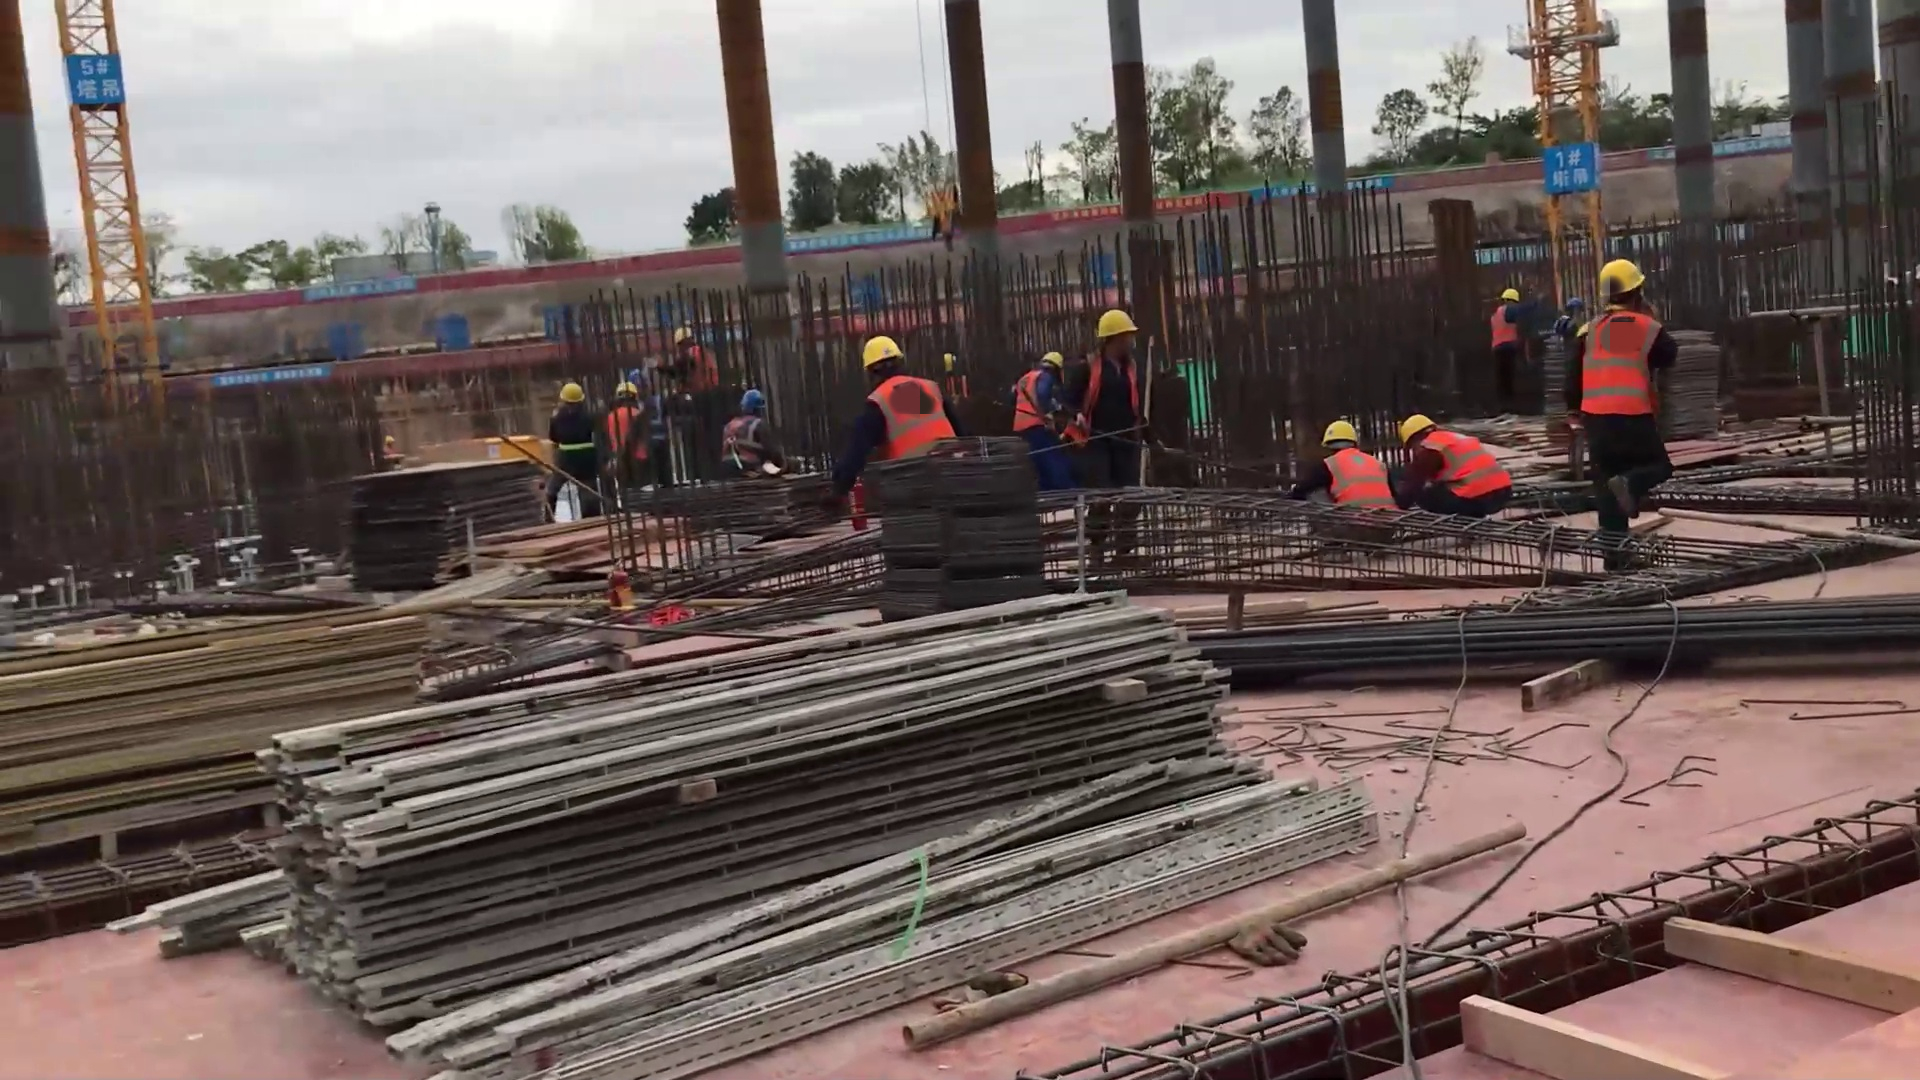helmet: (1398, 414, 1439, 452), (1595, 264, 1646, 293), (865, 335, 908, 365), (1098, 309, 1139, 339), (1326, 420, 1368, 448), (1042, 351, 1072, 382), (562, 382, 585, 407), (1567, 296, 1589, 317), (939, 352, 958, 376), (673, 325, 693, 344), (616, 382, 638, 400), (1505, 288, 1522, 308), (741, 394, 768, 408), (634, 368, 649, 388), (385, 435, 397, 444)
person: (1575, 257, 1655, 566), (1081, 308, 1146, 562), (847, 330, 946, 488), (1394, 401, 1506, 515), (1298, 424, 1385, 559), (543, 375, 603, 519), (1023, 340, 1073, 505), (723, 381, 786, 502), (1493, 274, 1536, 414), (617, 378, 651, 501), (642, 363, 680, 471), (675, 314, 721, 399), (1553, 295, 1586, 397), (928, 343, 973, 404), (382, 427, 400, 459)
vest: (1582, 316, 1658, 418), (1426, 421, 1503, 499), (1084, 351, 1144, 442), (1328, 449, 1405, 515), (876, 385, 950, 453), (1008, 372, 1055, 441), (715, 418, 770, 471), (554, 413, 598, 470), (608, 408, 646, 453), (1477, 308, 1519, 349), (644, 393, 668, 450), (681, 352, 712, 394), (947, 374, 977, 410), (383, 445, 396, 458)
